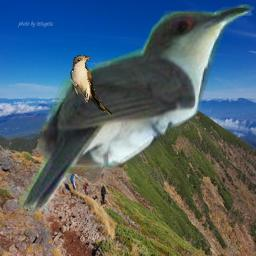Cuckoo: (19, 4, 255, 216), (70, 55, 113, 117)
